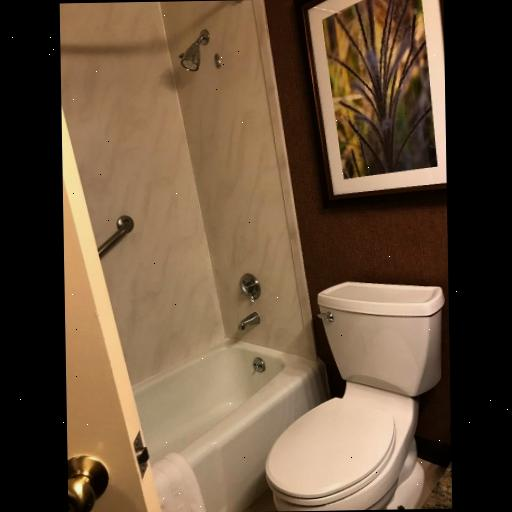clean_bathtub: (130, 300, 329, 512)
